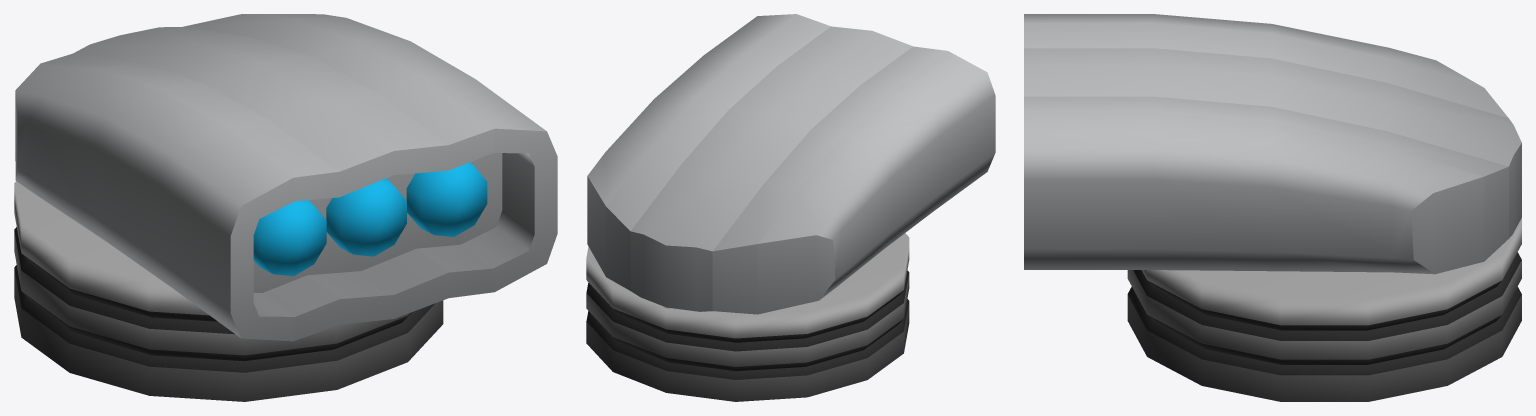
The model's file is Car_11_Engine.fbx.
3 views of the same model, side by side, from view 1: azimuth 30°, elevation 25°; view 2: azimuth 150°, elevation 25°; view 3: azimuth 270°, elevation 25° (orthographic). The views are drawn at different scales.
Visible parts, largest first — view 1: Car_11_Engine; view 2: Car_11_Engine; view 3: Car_11_Engine.
Boxes of the visible parts, x1,y1,x2,y2 form: Car_11_Engine: [14, 14, 557, 401]; Car_11_Engine: [586, 14, 995, 401]; Car_11_Engine: [1024, 14, 1521, 401].
Size of the model in its own units: 51.15 by 66.24 by 37.44.
